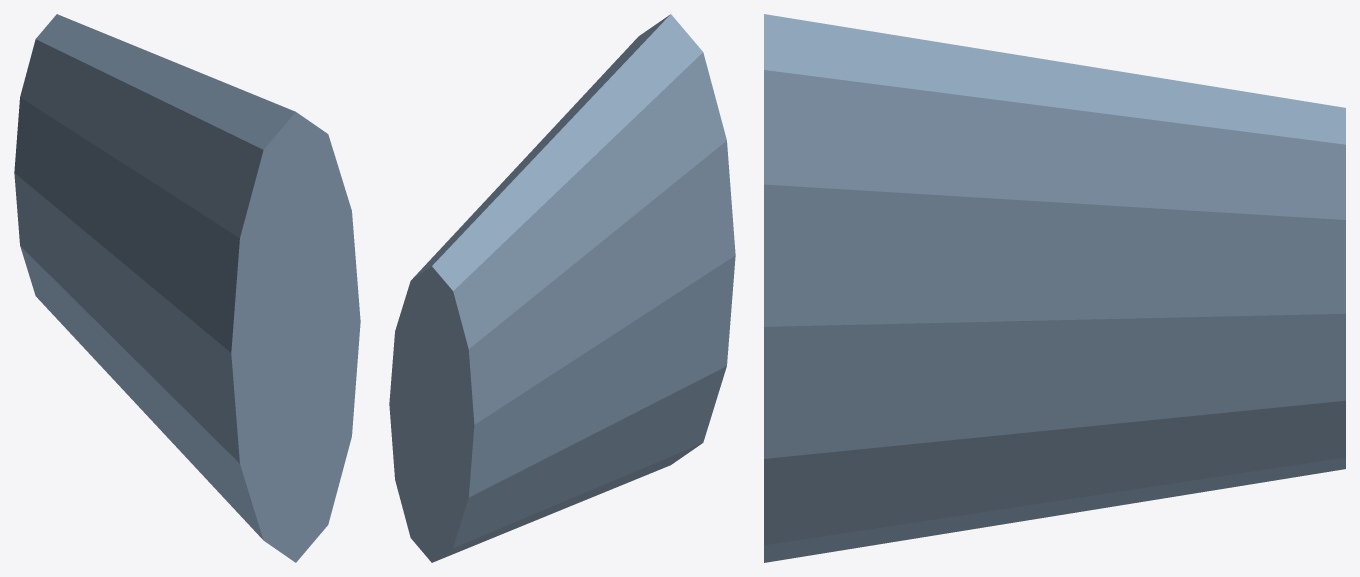
Rendered from bone_1.obj.
The picture shows the model from 3 angles, left to right: view 1: azimuth 30°, elevation 25°; view 2: azimuth 150°, elevation 25°; view 3: azimuth 270°, elevation 25°; orthographic projection. The views are drawn at different scales.
Parts seen in each view (by area): view 1: bone_1; view 2: bone_1; view 3: bone_1.
Boxes of the visible parts, box(x1,y1,x2,y2) form: bone_1: box(14, 14, 360, 562); bone_1: box(389, 14, 735, 562); bone_1: box(764, 14, 1345, 562).
Bounding box in the file's own units: 0.0228 × 0.076 × 0.073.
